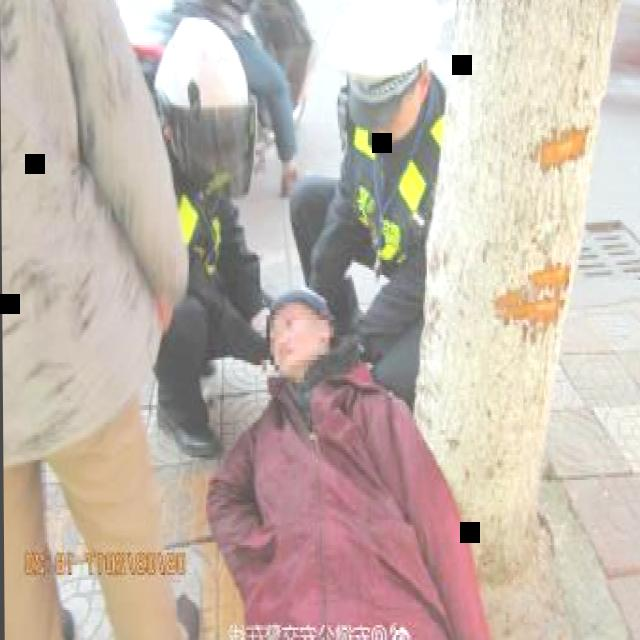Fall-Detected: (174, 265, 546, 640)
